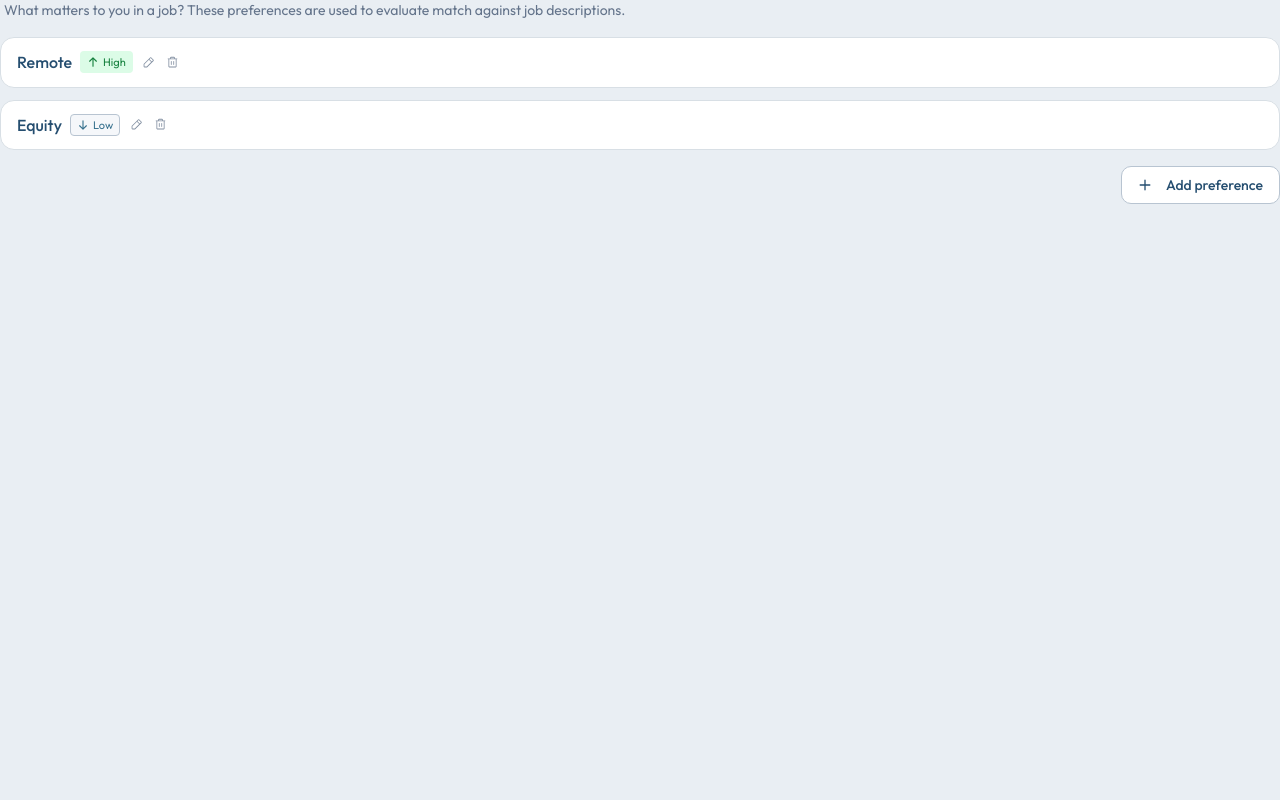
Scenario: WorkPreferencesEditor › remove item: confirms delete and persists
This screenshot has width=1280, height=800.
Click the button named "delete preference \"remote\"" at (173, 62), box left=161, top=50, right=185, bottom=74
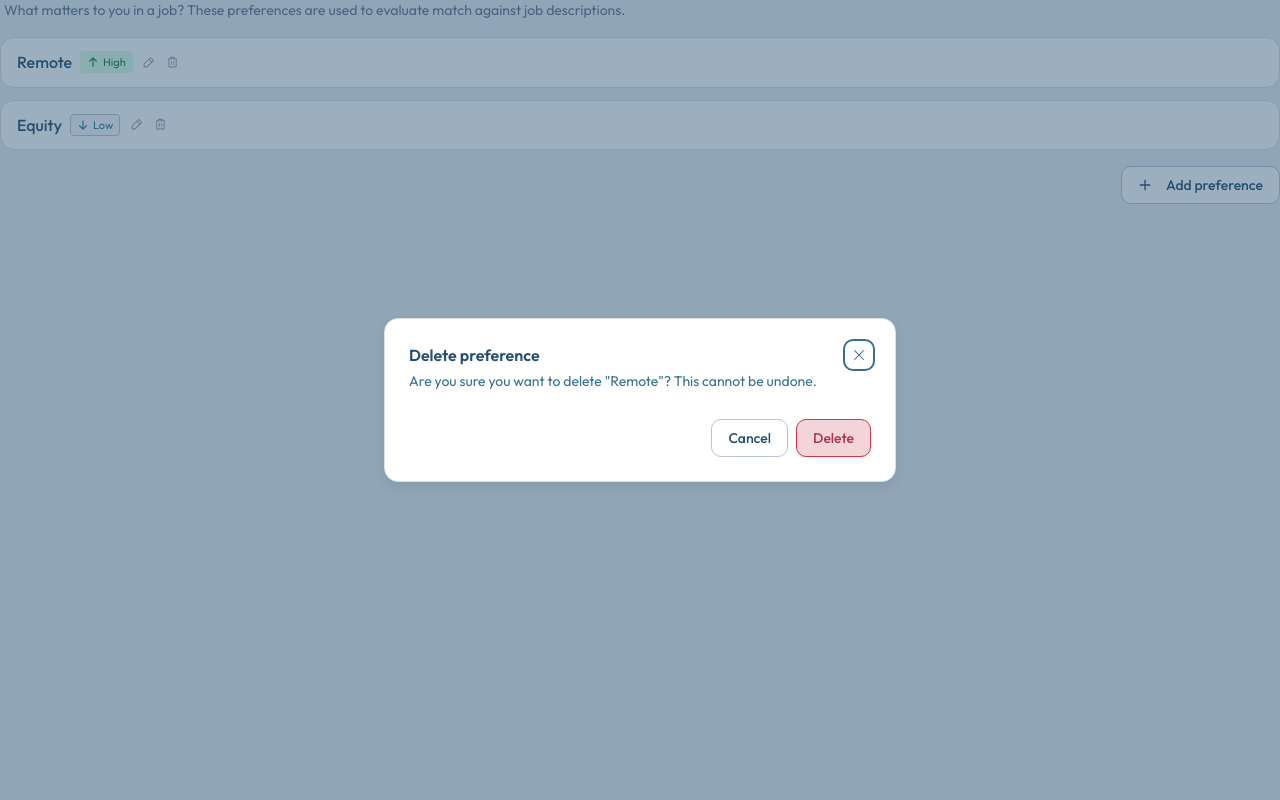
Click the button "Delete" at (834, 438), box left=796, top=419, right=871, bottom=457
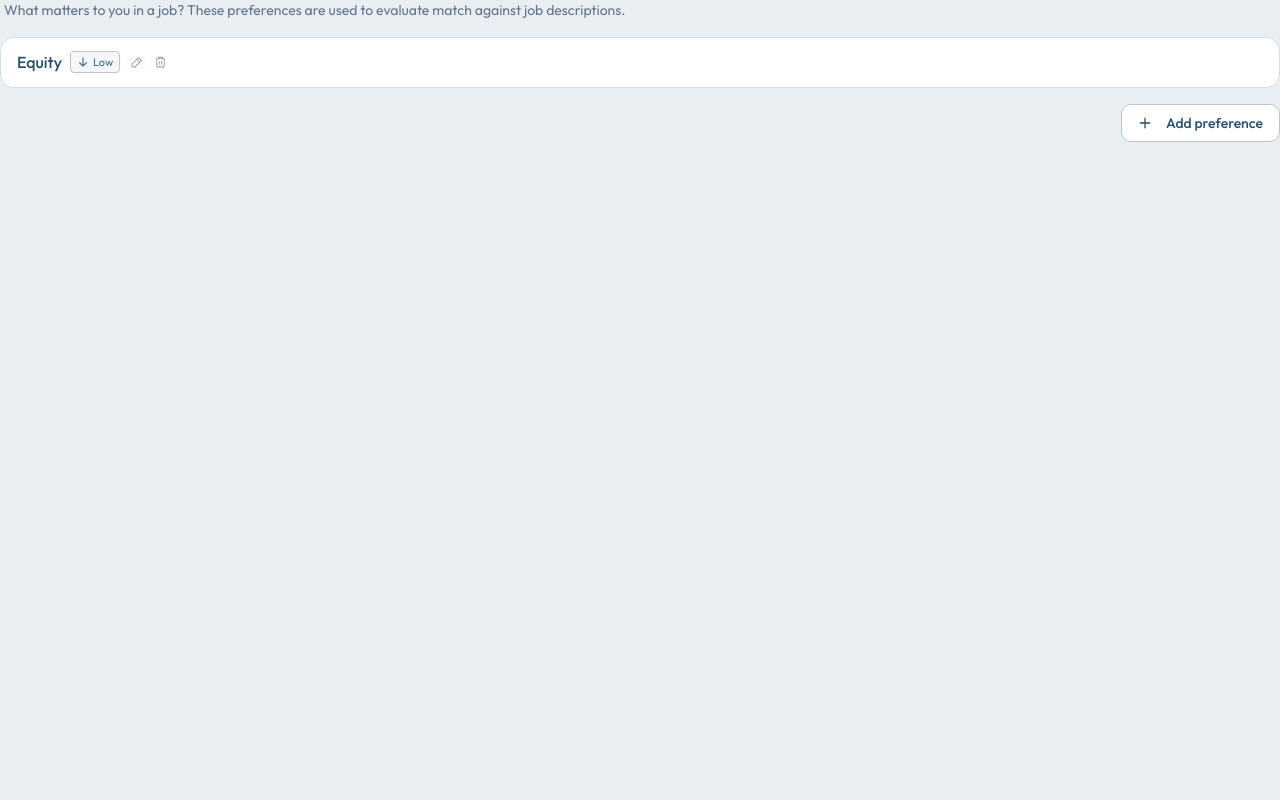
Expected: the button "Remote" is gone
